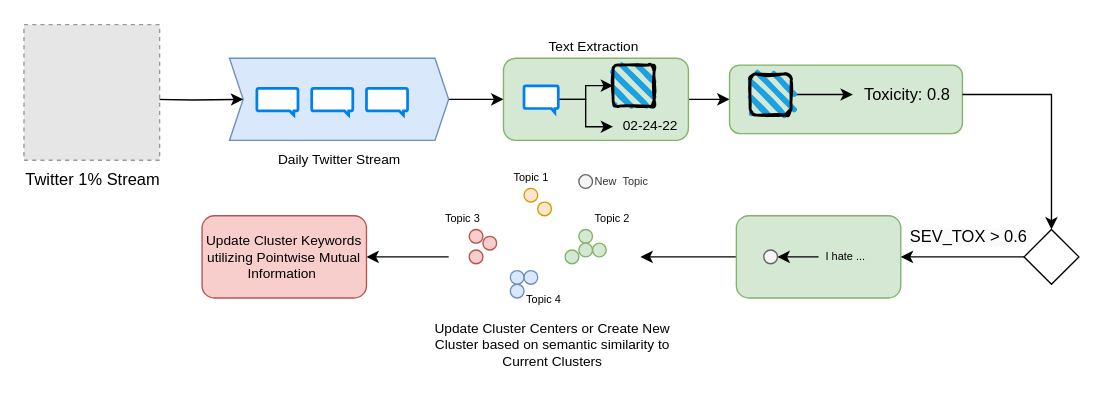
Image size: 1103x403. Some labels were removed from this diagram. Grey dashed boxes stand in for pictures. Each missing label, with the box of its shape:
Calculate Paragraph Embeddings: (735, 214, 901, 298)
Run Perspective on Tweet: (728, 64, 962, 134)
